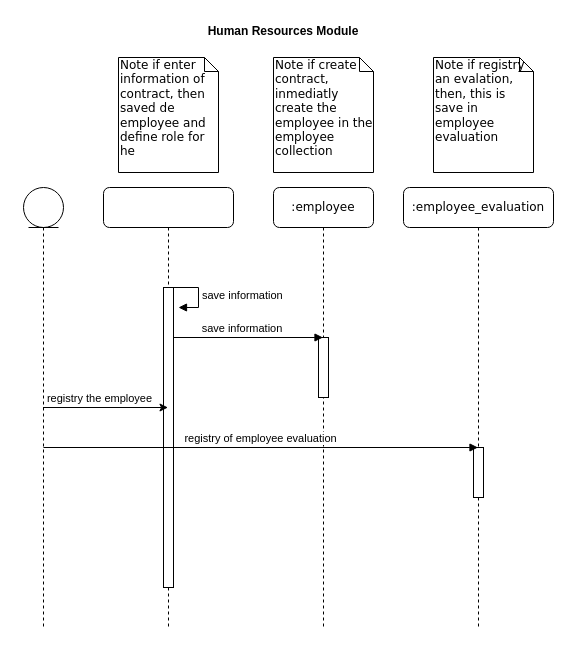
Image size: 571x645. Some labels were removed from this diagram. The box of each missing label's shape, as (x1, y1, x2, y2) in pixels:
:contract_employee: (102, 186, 234, 628)
Registry of Employee: (22, 186, 64, 628)
